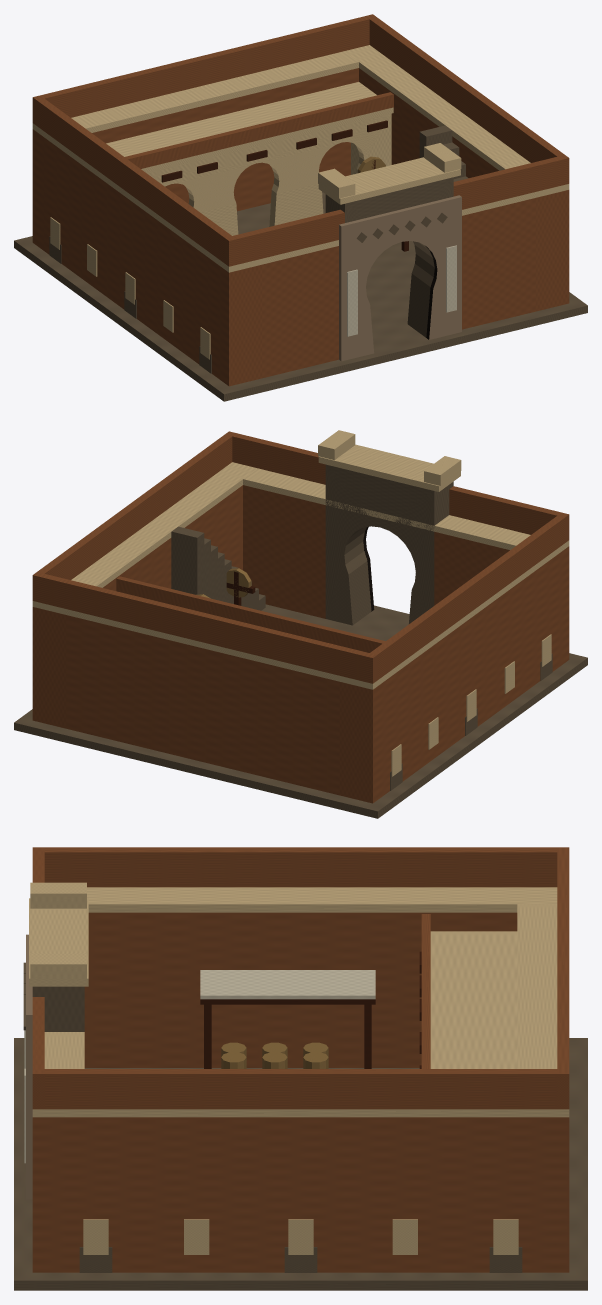
Rendered from Berber_Marrakech_Age4.fbx.
The picture shows the model from 3 angles, top to bottom: view 1: azimuth 30°, elevation 25°; view 2: azimuth 150°, elevation 25°; view 3: azimuth 270°, elevation 25°; orthographic projection. The views are drawn at different scales.
Visible parts, largest first — view 1: side_rampart_-3.25, foundation, office_courtyard_arcade, cross_walk_parapet.002, gateway_carved_alfiz, front_rampart_-2.025, front_rampart_2.025, side_rampart_3.25, rear_rampart, outer_walk_parapet, office_flat_roof, outer_walk_parapet.001 (+14 smaller); view 2: rear_rampart, side_rampart_-3.25, grand_kasbah_gateway, foundation, cross_walk_parapet.002, front_rampart_2.025, side_rampart_3.25, outer_walk_parapet, outer_walk_parapet.001, side_wall_walk_3.25, office_roof_front_parapet, cross_wall_walk_-3.25 (+9 smaller); view 3: side_rampart_3.25, side_rampart_-3.25, outer_walk_parapet.001, outer_walk_parapet, foundation, office_flat_roof, side_wall_walk_-3.25, cross_wall_walk_3.25, store_owner_cloth_awning, side_wall_walk_3.25, cross_walk_parapet.002, gateway_stepped_cornice (+16 smaller).
Part boxes in pixels (x1,y1,x2,y2): side_rampart_-3.25: (32, 129, 262, 386); foundation: (14, 191, 587, 401); office_courtyard_arcade: (147, 113, 391, 235); cross_walk_parapet.002: (32, 14, 376, 125); gateway_carved_alfiz: (339, 195, 461, 361); front_rampart_-2.025: (262, 246, 338, 378); front_rampart_2.025: (462, 198, 536, 329); side_rampart_3.25: (359, 68, 569, 311); rear_rampart: (92, 68, 358, 211); outer_walk_parapet: (37, 98, 231, 263); office_flat_roof: (106, 82, 393, 173); outer_walk_parapet.001: (369, 17, 564, 162); rear_rampart: (65, 615, 339, 795); side_rampart_-3.25: (339, 546, 569, 803); grand_kasbah_gateway: (325, 464, 453, 625); foundation: (14, 604, 587, 818); cross_walk_parapet.002: (32, 572, 377, 683); front_rampart_2.025: (243, 485, 325, 618); side_rampart_3.25: (32, 485, 242, 728); outer_walk_parapet: (370, 515, 564, 680); outer_walk_parapet.001: (37, 434, 232, 579); side_wall_walk_3.25: (32, 462, 257, 614); office_roof_front_parapet: (116, 576, 385, 652); cross_wall_walk_-3.25: (243, 468, 530, 549); side_rampart_3.25: (32, 1117, 569, 1272); side_rampart_-3.25: (84, 912, 517, 1067); outer_walk_parapet.001: (44, 1069, 557, 1109); outer_walk_parapet: (44, 847, 557, 887); foundation: (14, 1038, 587, 1290); office_flat_roof: (430, 931, 517, 1068); side_wall_walk_-3.25: (87, 887, 557, 912); cross_wall_walk_3.25: (517, 904, 557, 1068); store_owner_cloth_awning: (200, 970, 375, 999); side_wall_walk_3.25: (32, 1109, 569, 1117); cross_walk_parapet.002: (557, 847, 569, 1109); gateway_stepped_cornice: (29, 898, 88, 986).
Size of the model in its own units: 770 by 364 by 770.
Materials: 7 (7 with a texture image).
